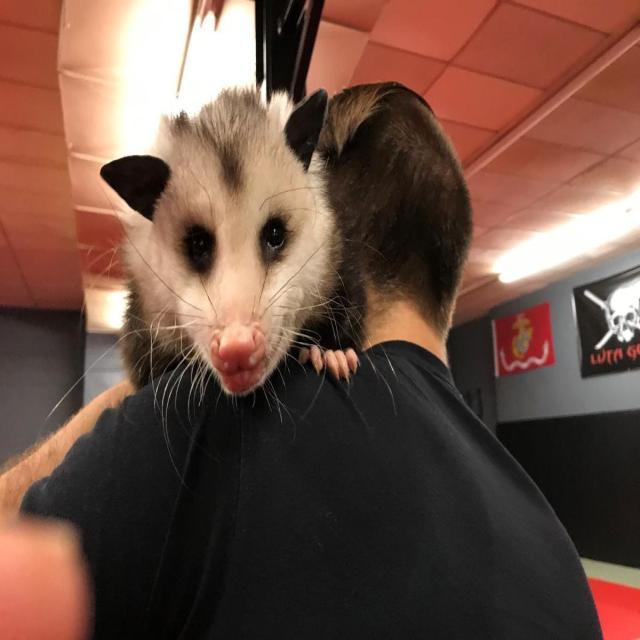Possum: (91, 83, 358, 401)
